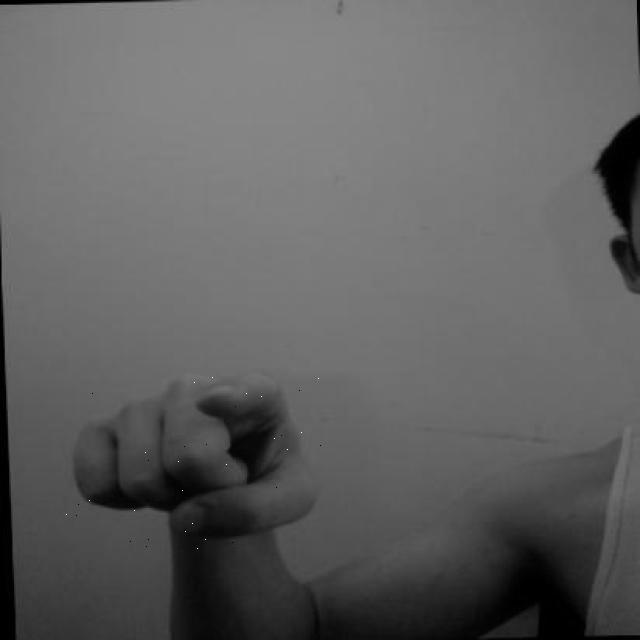Z: (62, 366, 326, 549)
